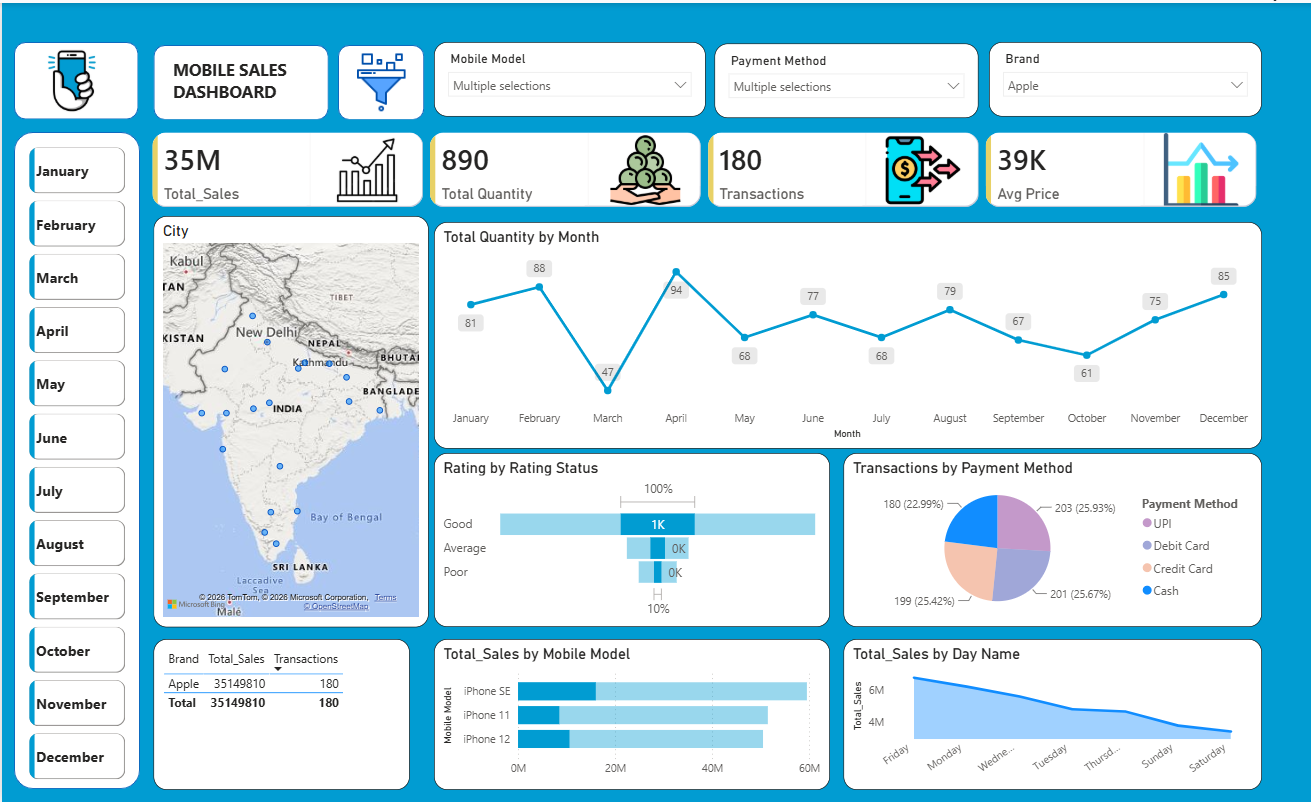

Layout of this report page (visuals, bound fields, positions):
{"tool":"powerbi","page":{"name":"Page 1","canvas":[1480,900],"ordinal":0},"visuals":[{"type":"shape","box":[12.9,44.3,140,87.1],"z":0},{"type":"shape","box":[13.5,145.3,141.9,740.1],"z":1000},{"type":"image","box":[24.3,41.4,110,90],"z":2000},{"type":"advancedSlicerVisual","fields":{"Values":["Custom_Calender.Date.Variation.Date Hierarchy.Month"]},"box":[25.3,157.1,118.3,728.2],"z":3000},{"type":"cardVisual","fields":{"Data":["mobile_sales_data.Total_Sales","mobile_sales_data.Total Quantity","mobile_sales_data.Transactions","mobile_sales_data.Weighted Avg Price"]},"box":[152.9,128.6,1280,118.6],"z":5000},{"type":"slicer","fields":{"Values":["mobile_sales_data.Payment Method"]},"box":[802.9,45.7,297.1,84.3],"z":6000},{"type":"shape","box":[378.6,47.1,97.1,84.3],"z":7000},{"type":"image","box":[361.4,55.7,131.4,67.1],"z":8000},{"type":"shape","box":[171.4,47.1,197.1,84.3],"z":9000},{"type":"slicer","fields":{"Values":["mobile_sales_data.Mobile Model"]},"box":[487.1,44.3,305.7,84.3],"z":10000},{"type":"slicer","fields":{"Values":["mobile_sales_data.Brand"]},"box":[1111.4,44.3,307.1,84.3],"z":11000},{"type":"textbox","box":[187.1,57.1,168.6,61.4],"z":12000},{"type":"lineChart","fields":{"Category":["Custom_Calender.Date.Variation.Date Hierarchy.Month"],"Y":["mobile_sales_data.Total Quantity"]},"box":[486.6,246.7,932.7,255.1],"z":13000},{"type":"funnel","title":"Rating by Rating Status","fields":{"Category":["mobile_sales_data.Rating status"],"Y":["Sum(mobile_sales_data.Customer Ratings)"]},"box":[487.1,507.1,445.7,195.7],"z":14000},{"type":"pieChart","fields":{"Y":["mobile_sales_data.Transactions"],"Category":["mobile_sales_data.Payment Method"]},"box":[947.1,507.1,471.4,195.7],"z":15000},{"type":"clusteredBarChart","fields":{"Y":["mobile_sales_data.Total_Sales"],"Category":["mobile_sales_data.Mobile Model"]},"box":[487.1,715.7,445.7,170],"z":16000},{"type":"areaChart","fields":{"Category":["Custom_Calender.Day Name"],"Y":["mobile_sales_data.Total_Sales"]},"box":[947.1,715.7,471.4,170],"z":17000},{"type":"tableEx","fields":{"Values":["mobile_sales_data.Brand","mobile_sales_data.Total_Sales","mobile_sales_data.Transactions"]},"box":[171.4,715.7,288.6,170],"z":18000},{"type":"map","fields":{"Category":["mobile_sales_data.City"]},"box":[171,240,310,463],"z":19000}]}

Visuals, with their boxes in screenshot pixels (x1, y1, x2, y2), scaled from the page's 1480x900 canvas onto the 1311x802 screenshot:
shape: 11/39/135/117
shape: 12/129/138/789
image: 22/37/119/117
advancedSlicerVisual - Custom_Calender.Date.Variation.Date Hierarchy.Month: 22/140/127/789
cardVisual - mobile_sales_data.Total_Sales x mobile_sales_data.Total Quantity: 135/115/1269/220
slicer - mobile_sales_data.Payment Method: 711/41/974/116
shape: 335/42/421/117
image: 320/50/437/109
shape: 152/42/326/117
slicer - mobile_sales_data.Mobile Model: 431/39/702/115
slicer - mobile_sales_data.Brand: 984/39/1257/115
textbox: 166/51/315/106
lineChart - Custom_Calender.Date.Variation.Date Hierarchy.Month x mobile_sales_data.Total Quantity: 431/220/1257/447
"Rating by Rating Status" funnel: 431/452/826/626
pieChart - mobile_sales_data.Transactions x mobile_sales_data.Payment Method: 839/452/1257/626
clusteredBarChart - mobile_sales_data.Total_Sales x mobile_sales_data.Mobile Model: 431/638/826/789
areaChart - Custom_Calender.Day Name x mobile_sales_data.Total_Sales: 839/638/1257/789
tableEx - mobile_sales_data.Brand x mobile_sales_data.Total_Sales: 152/638/407/789
map - mobile_sales_data.City: 151/214/426/626
